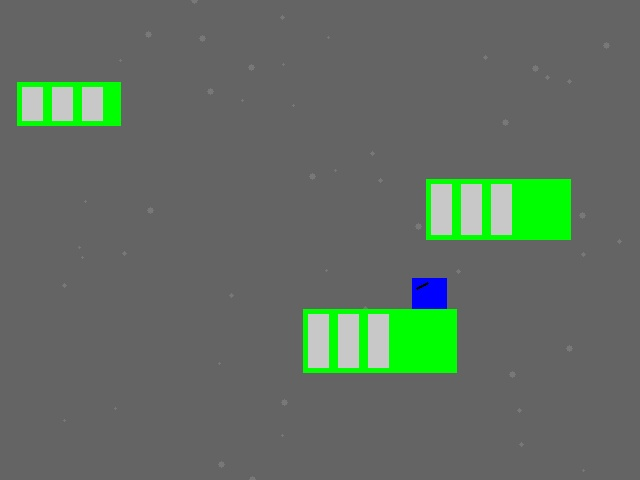bus: (303, 309, 456, 372), (426, 179, 570, 239), (17, 82, 120, 125)
motorcycle: (412, 278, 446, 347)
